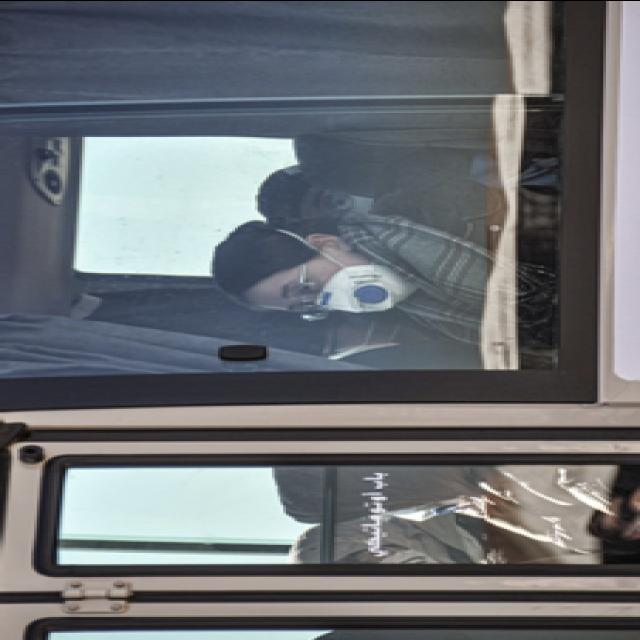mask: (272, 256, 419, 314)
